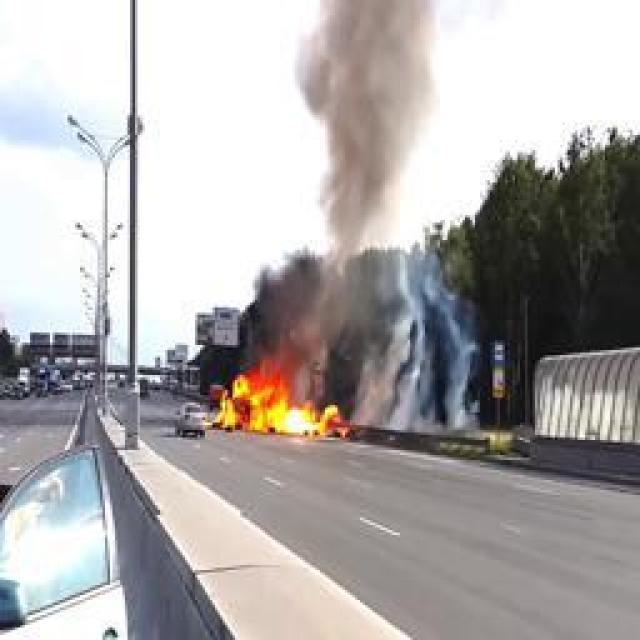Fire: (212, 364, 348, 438)
